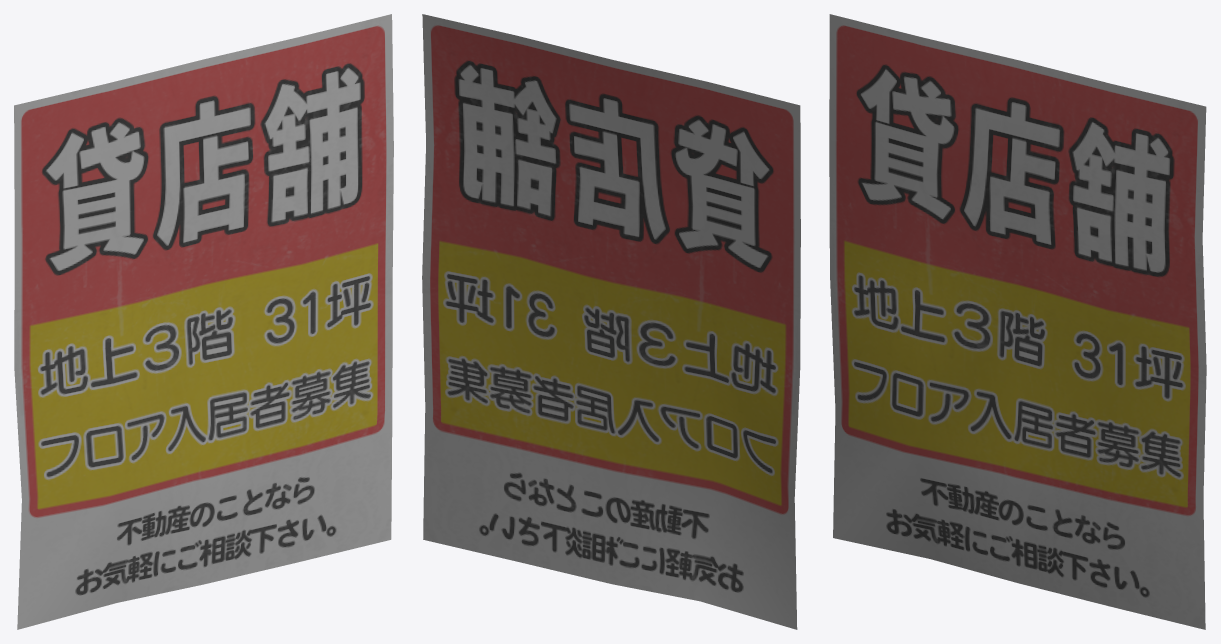
The model's file is posterC.fbx.
3 renders of one model, left to right at view 1: azimuth 30°, elevation 25°; view 2: azimuth 150°, elevation 25°; view 3: azimuth 330°, elevation 25°, orthographic.
Visible parts, largest first — view 1: posterC; view 2: posterC; view 3: posterC.
Part boxes in pixels (x1=…): posterC: x1=14, y1=14, x2=393, y2=629; posterC: x1=422, y1=14, x2=800, y2=629; posterC: x1=829, y1=14, x2=1206, y2=629.
Size of the model in its own units: 30.18 by 40.11 by 1.29.
1 material, 1 textured.
